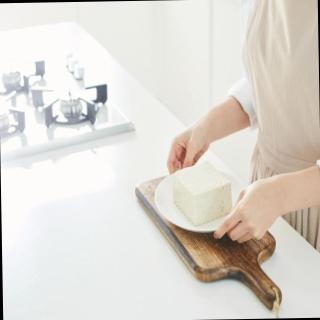Tahu: (164, 164, 241, 222)
